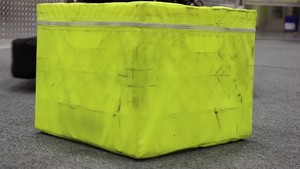cube: (36, 2, 256, 159)
